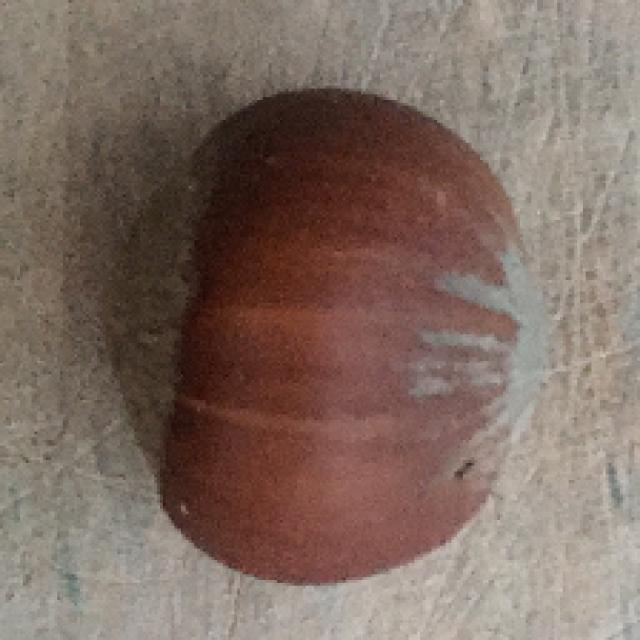damagedHazelnut: (92, 90, 551, 580)
